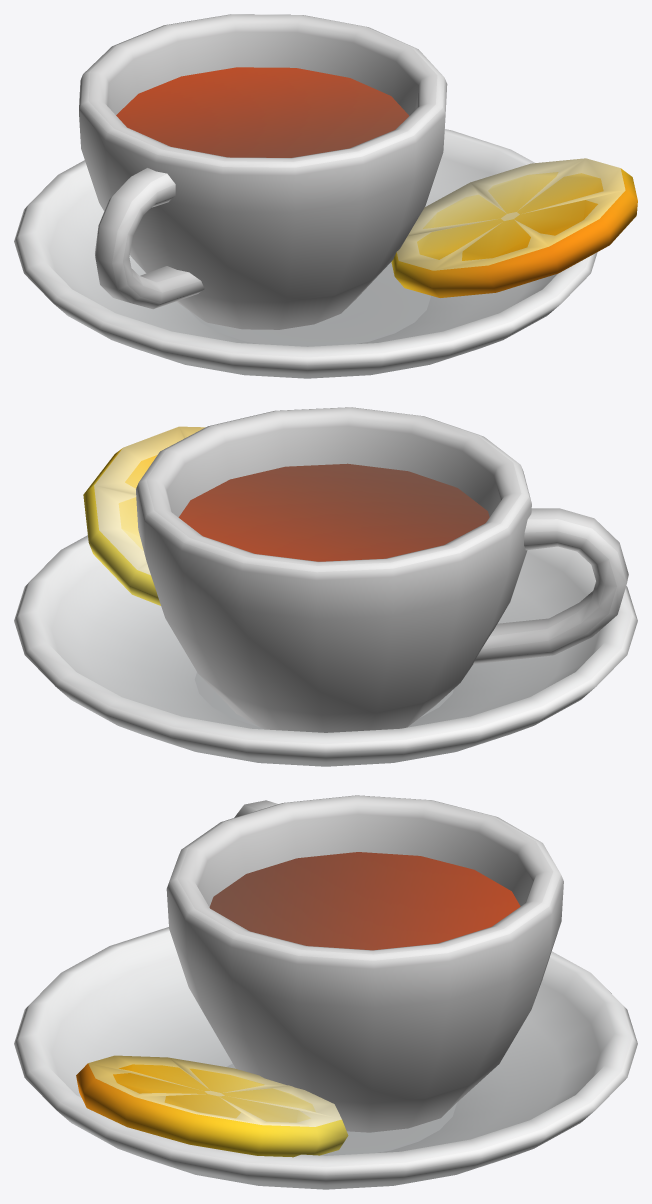
File: tea_002.fbx
3 renders of one model, top to bottom at view 1: azimuth 30°, elevation 25°; view 2: azimuth 150°, elevation 25°; view 3: azimuth 270°, elevation 25°, orthographic. The views are drawn at different scales.
Parts seen in each view (by area): view 1: tea_002; view 2: tea_002; view 3: tea_002.
Part boxes in pixels (x1,y1,x2,y2): tea_002: (14, 14, 637, 378); tea_002: (14, 407, 637, 766); tea_002: (14, 795, 637, 1189).
Bounding box in the file's own units: 12.89 × 12.69 × 5.01.
